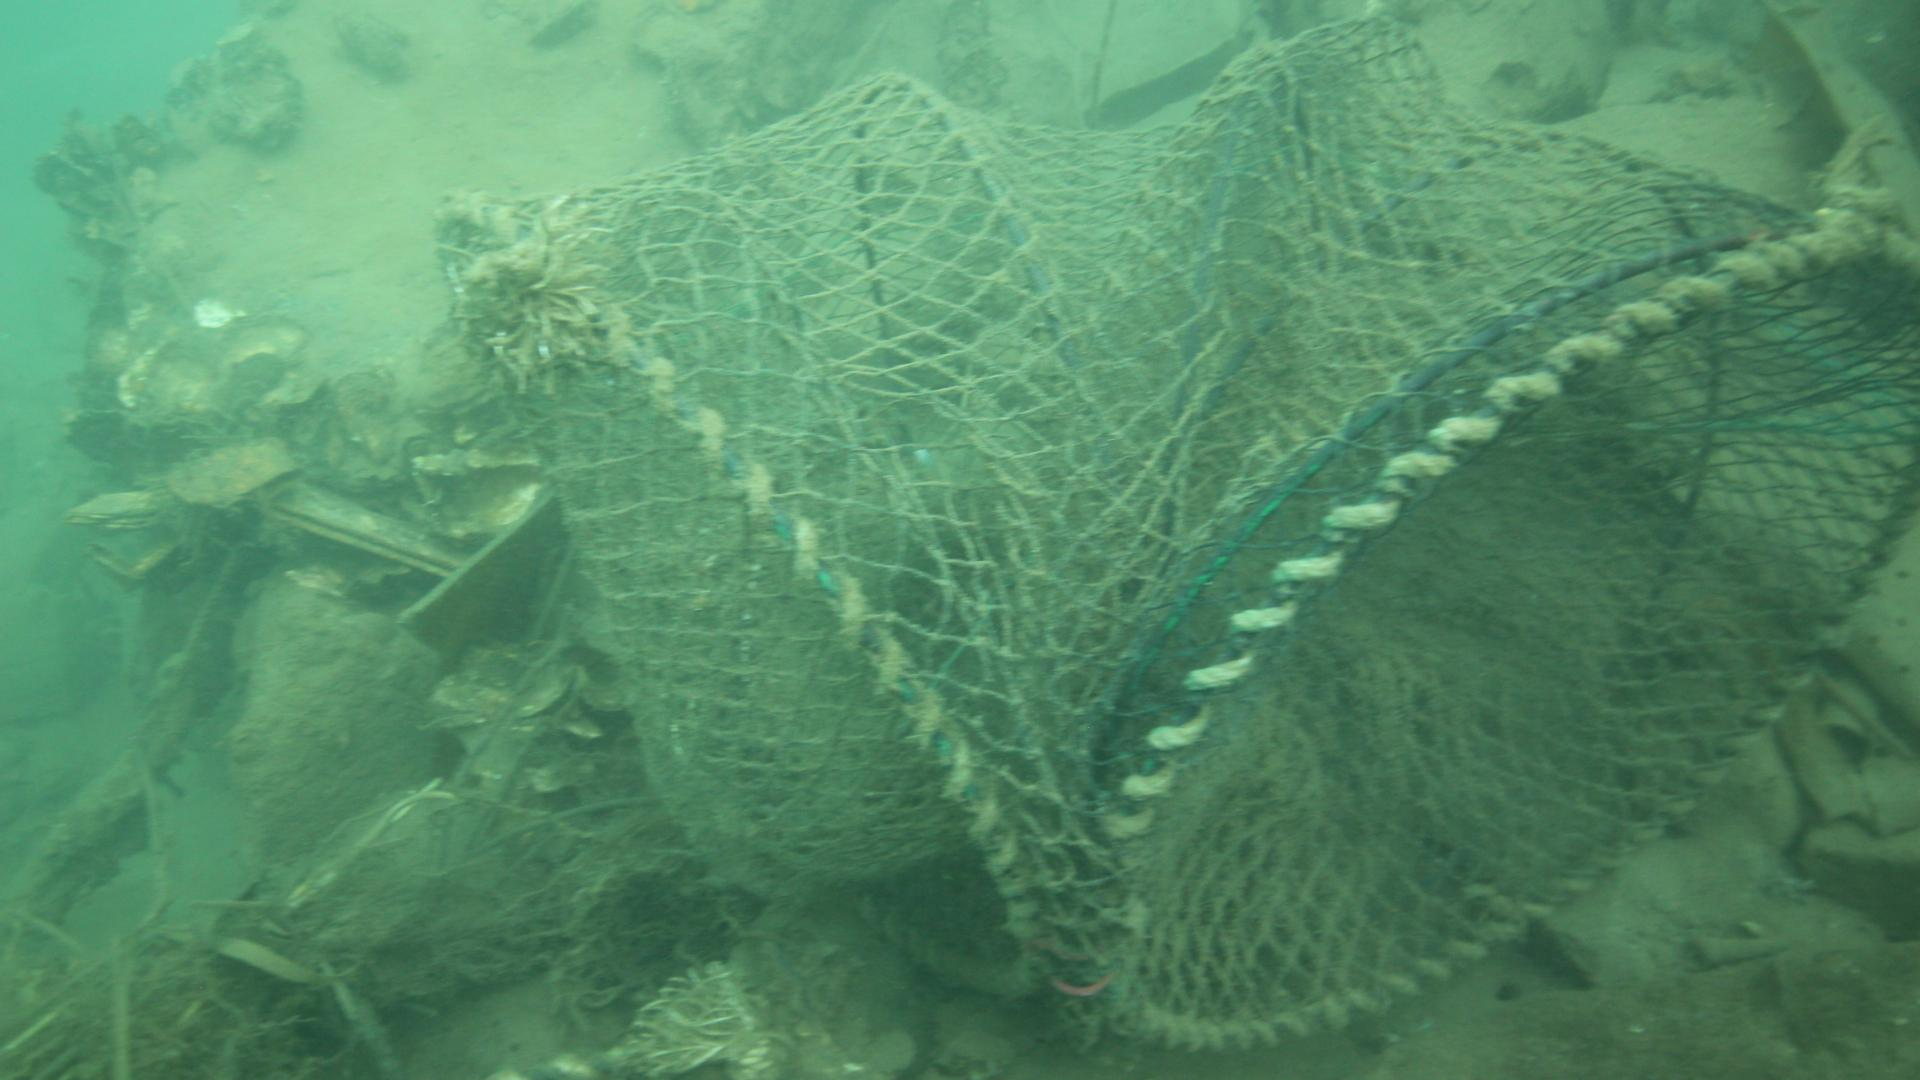spring fish trap: (429, 12, 1920, 1050)
